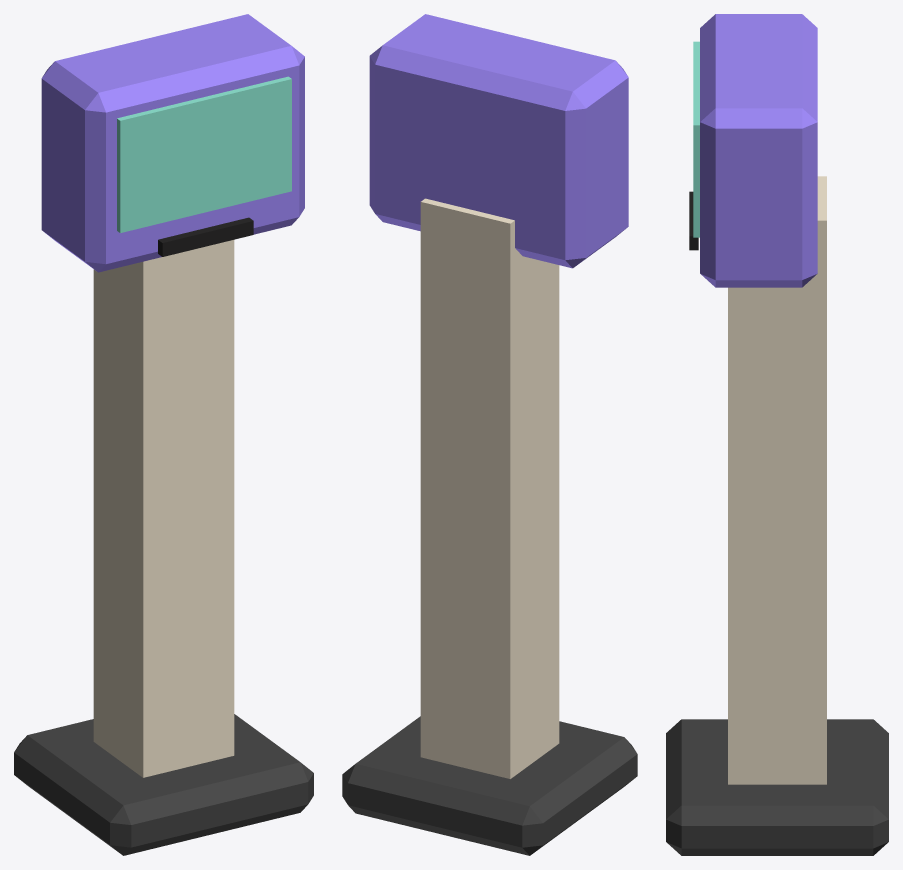
3 views of the same model, side by side, from view 1: azimuth 30°, elevation 25°; view 2: azimuth 150°, elevation 25°; view 3: azimuth 270°, elevation 25° (orthographic).
Visible parts, largest first — view 1: Pedestal, Display housing, Base, Touch screen, Ticket slot; view 2: Pedestal, Display housing, Base; view 3: Pedestal, Display housing, Base, Touch screen.
Boxes of the visible parts, x1=… form: Pedestal: x1=93, y1=240, x2=234, y2=777; Display housing: x1=41, y1=14, x2=304, y2=272; Base: x1=14, y1=714, x2=313, y2=855; Touch screen: x1=117, y1=76, x2=291, y2=232; Ticket slot: x1=158, y1=217, x2=253, y2=256; Pedestal: x1=420, y1=198, x2=559, y2=778; Display housing: x1=369, y1=14, x2=628, y2=268; Base: x1=342, y1=716, x2=637, y2=855; Pedestal: x1=728, y1=176, x2=826, y2=784; Display housing: x1=700, y1=14, x2=817, y2=287; Base: x1=666, y1=719, x2=888, y2=855; Touch screen: x1=693, y1=41, x2=699, y2=237.
Size of the model in its own units: 0.41 by 1.34 by 0.36.
Materials: 1 (1 with a texture image).
